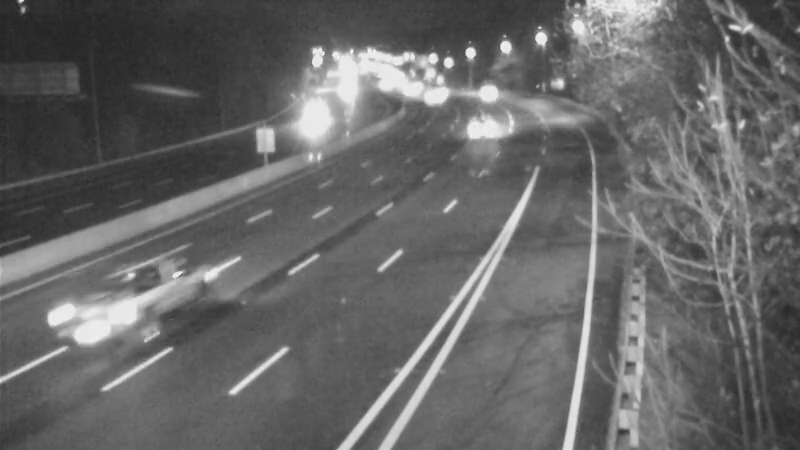vehicle: (46, 270, 156, 380), (464, 67, 514, 117), (403, 74, 453, 124), (454, 103, 504, 153), (285, 94, 335, 144)
